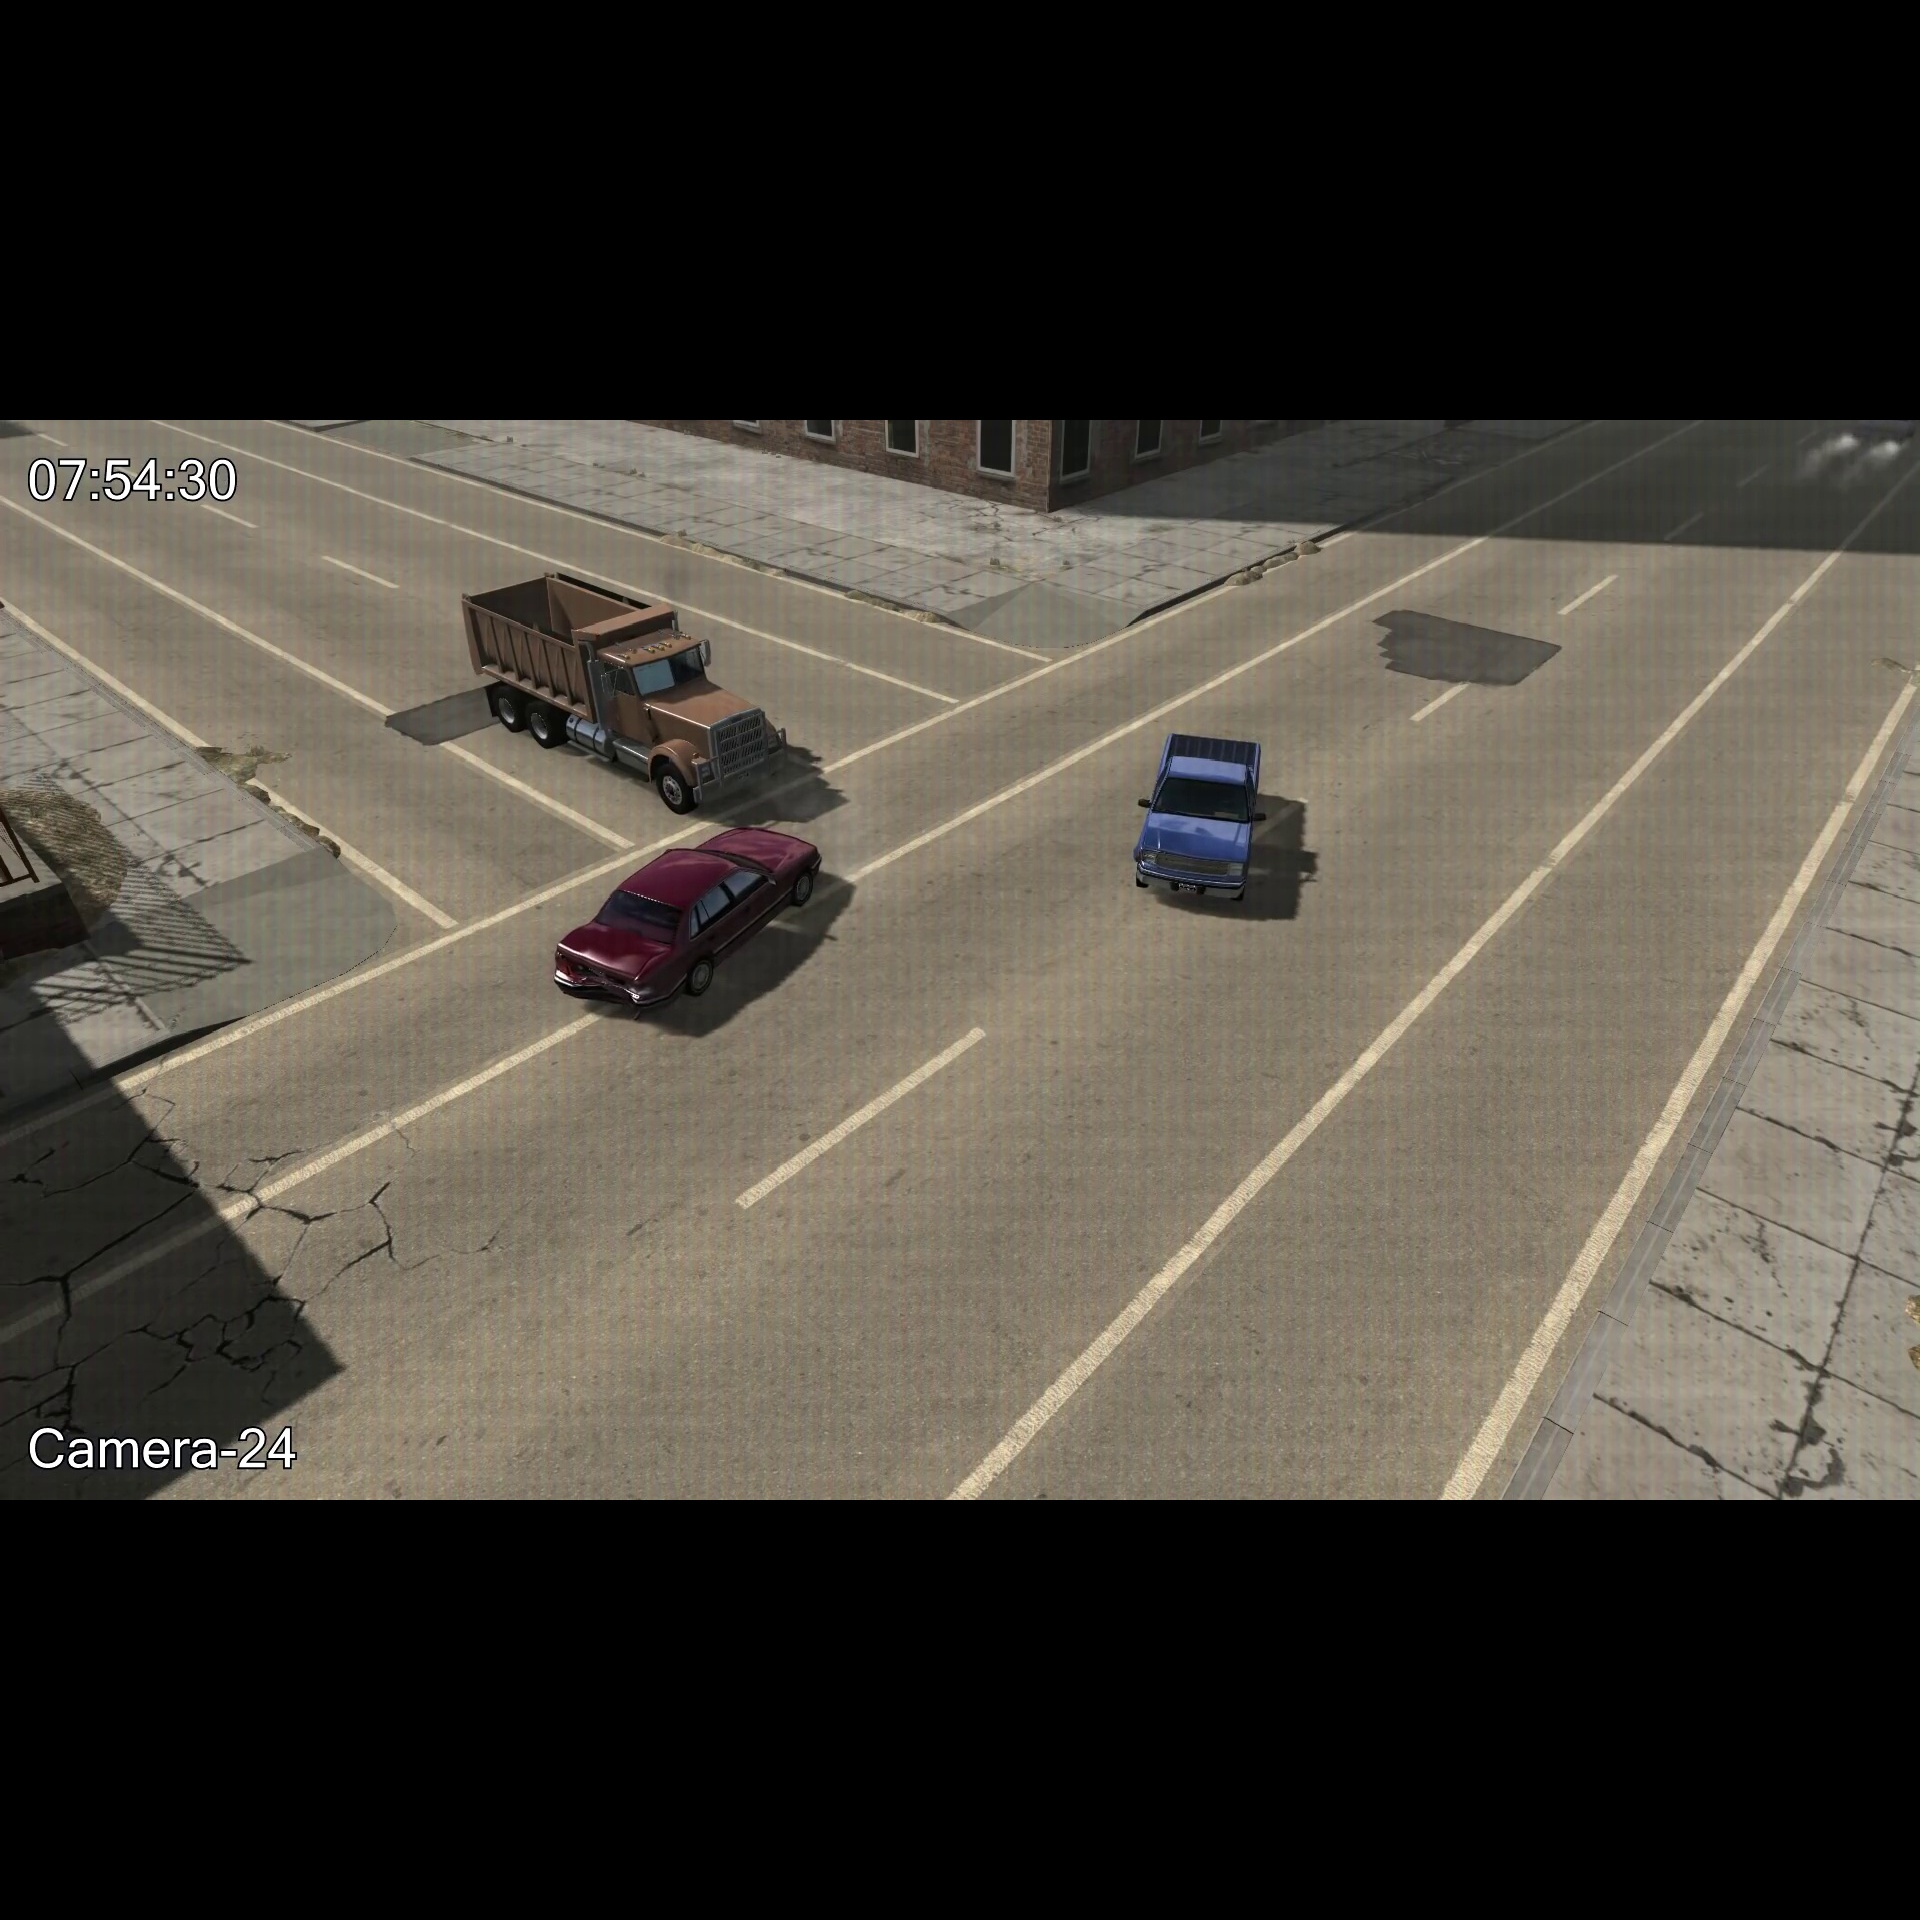vehicle: (447, 556, 793, 818), (549, 823, 826, 1025), (1127, 726, 1275, 925)
